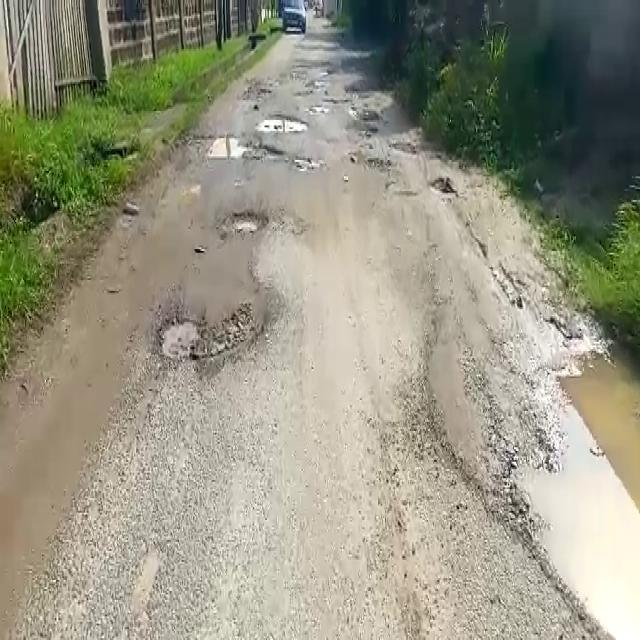pothole: (506, 348, 640, 639), (155, 301, 255, 361), (194, 133, 254, 161), (223, 209, 268, 234), (257, 115, 309, 132)
